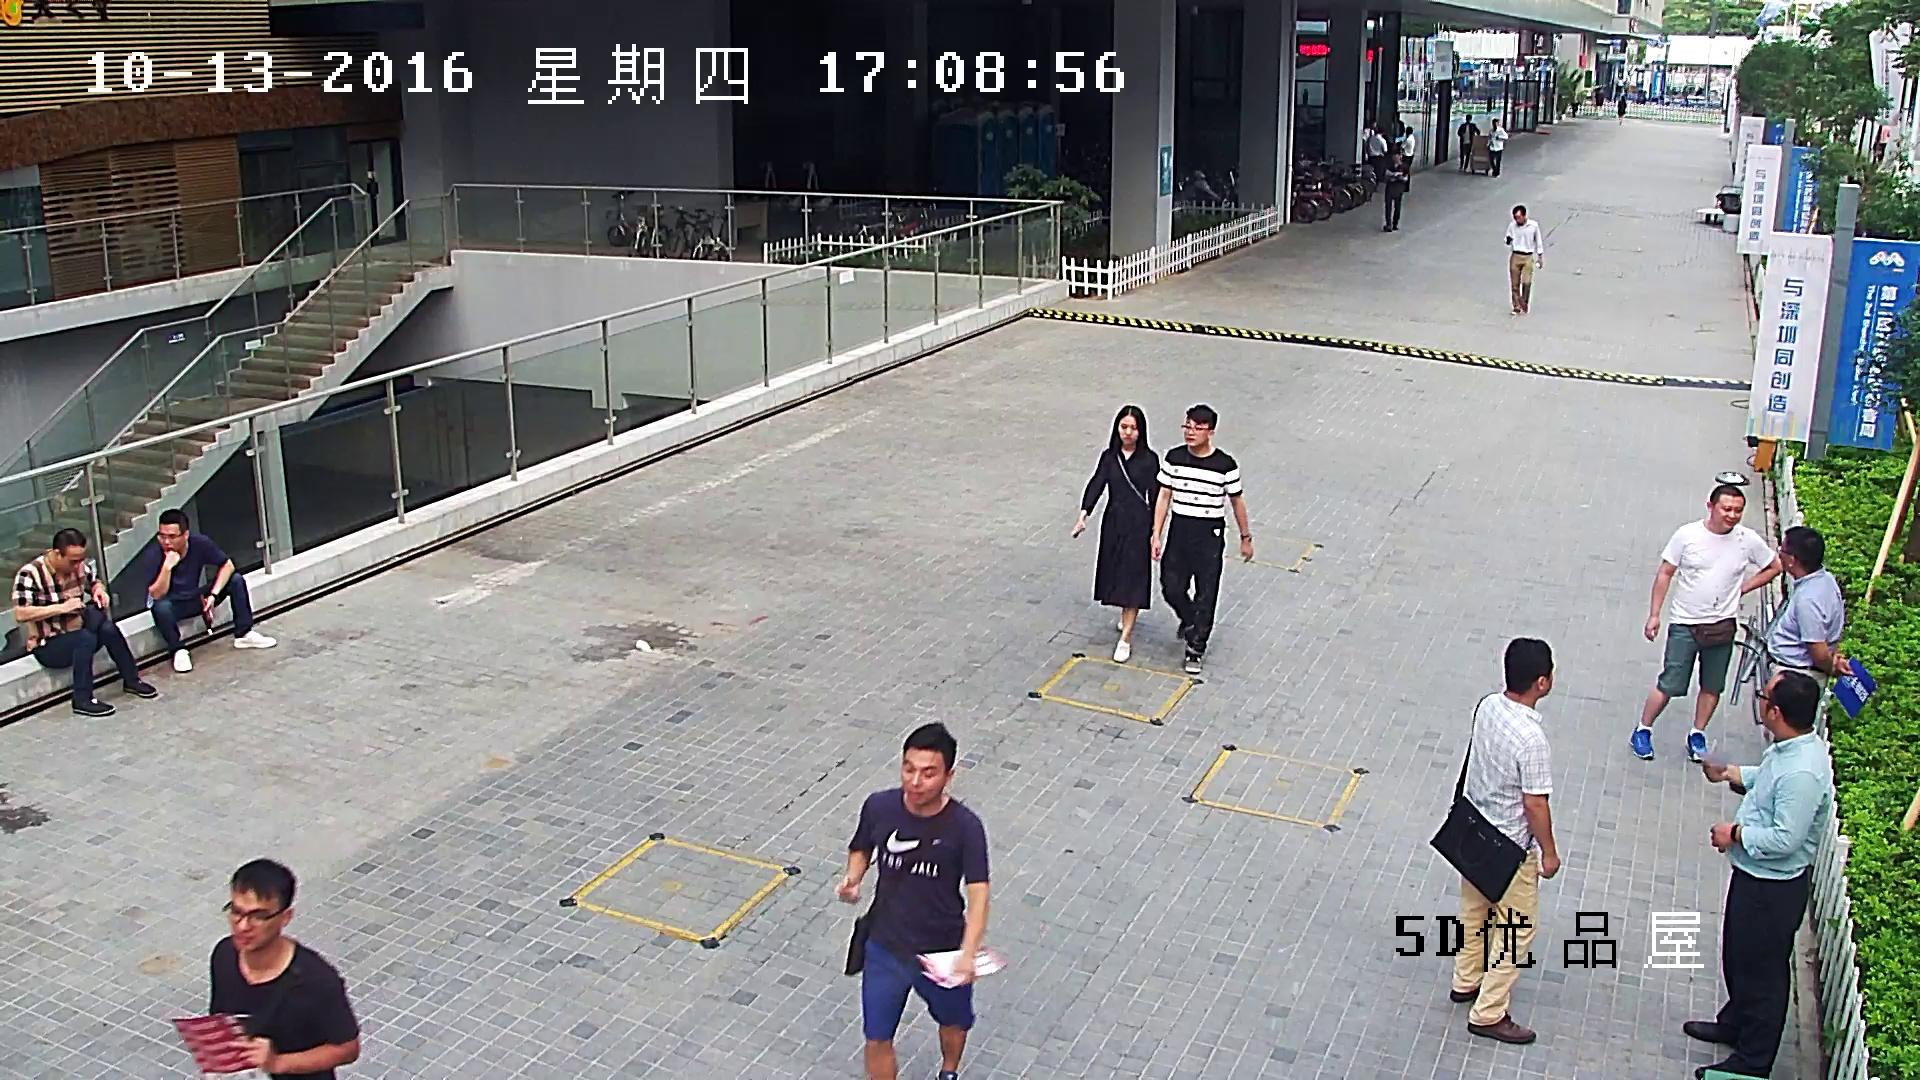person: (837, 722, 1005, 1080), (1683, 670, 1829, 1079), (1430, 637, 1559, 1043), (1629, 485, 1781, 762), (171, 859, 359, 1079), (11, 528, 156, 716), (1153, 405, 1253, 673), (1764, 527, 1876, 744), (1072, 405, 1160, 663), (144, 509, 276, 672), (1504, 205, 1543, 313), (1381, 149, 1408, 232), (1470, 118, 1508, 177), (1457, 114, 1479, 172), (1486, 119, 1508, 177), (1367, 127, 1387, 186), (1388, 110, 1405, 171), (1401, 127, 1414, 191), (1362, 118, 1378, 161), (1617, 96, 1625, 126)
